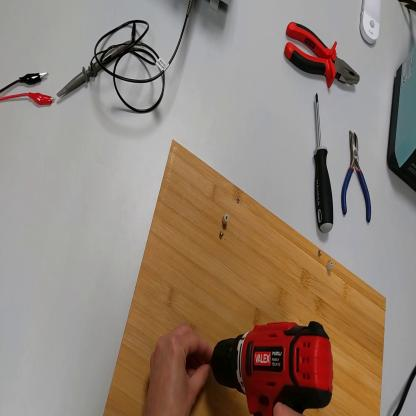electric screwdriver: (212, 322, 335, 416)
hand: (145, 324, 216, 415), (271, 401, 304, 412)
oscilloscope: (209, 1, 233, 17)
oscilloscope probe tip: (58, 37, 145, 99)
pliers: (285, 17, 362, 96), (343, 128, 373, 225)
screwdriver-: (311, 91, 335, 235)
welder station: (388, 46, 416, 198)
working area: (105, 140, 387, 416)
